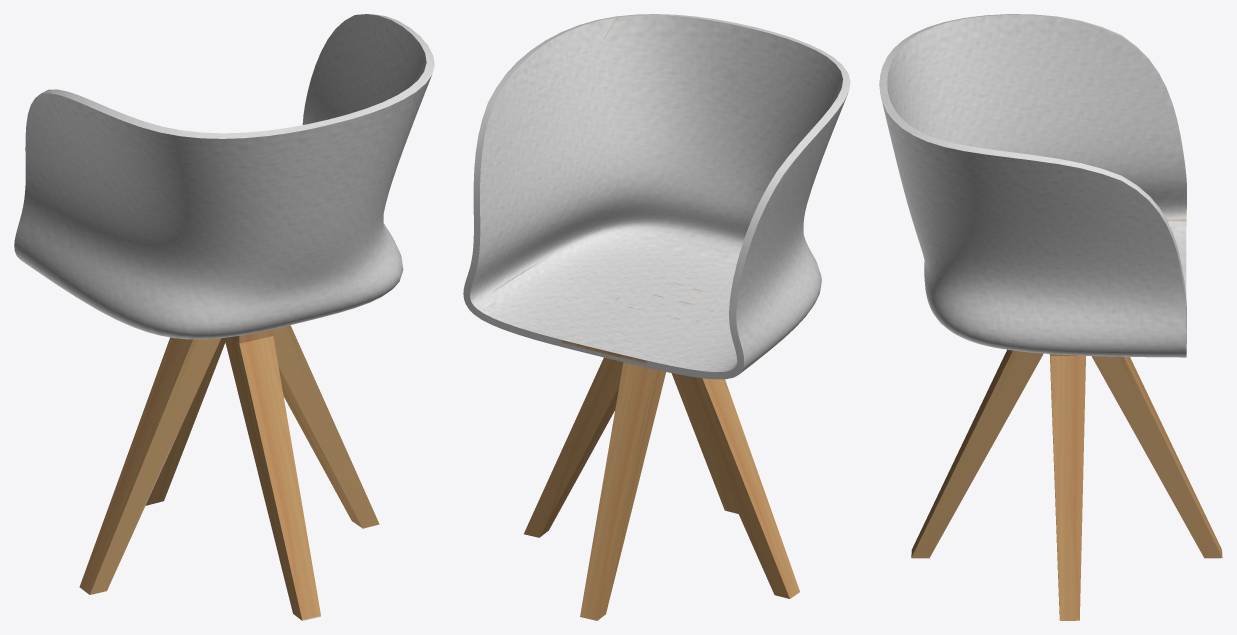
The model's file is int_107.fbx.
The picture shows the model from 3 angles, left to right: view 1: azimuth 30°, elevation 25°; view 2: azimuth 150°, elevation 25°; view 3: azimuth 270°, elevation 25°; orthographic projection. The views are drawn at different scales.
Visible parts, largest first — view 1: silla.001; view 2: silla.001; view 3: silla.001.
Boxes of the visible parts, x1=… form: silla.001: x1=14, y1=14, x2=434, y2=620; silla.001: x1=463, y1=14, x2=850, y2=620; silla.001: x1=879, y1=14, x2=1222, y2=620.
Size of the model in its own units: 74.21 by 111 by 72.91.
1 material, 1 textured.
